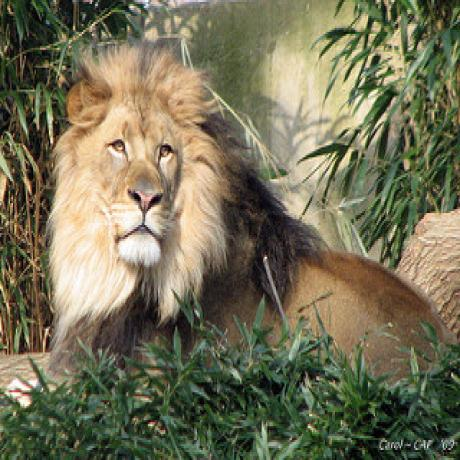Lion: (43, 41, 453, 386)
